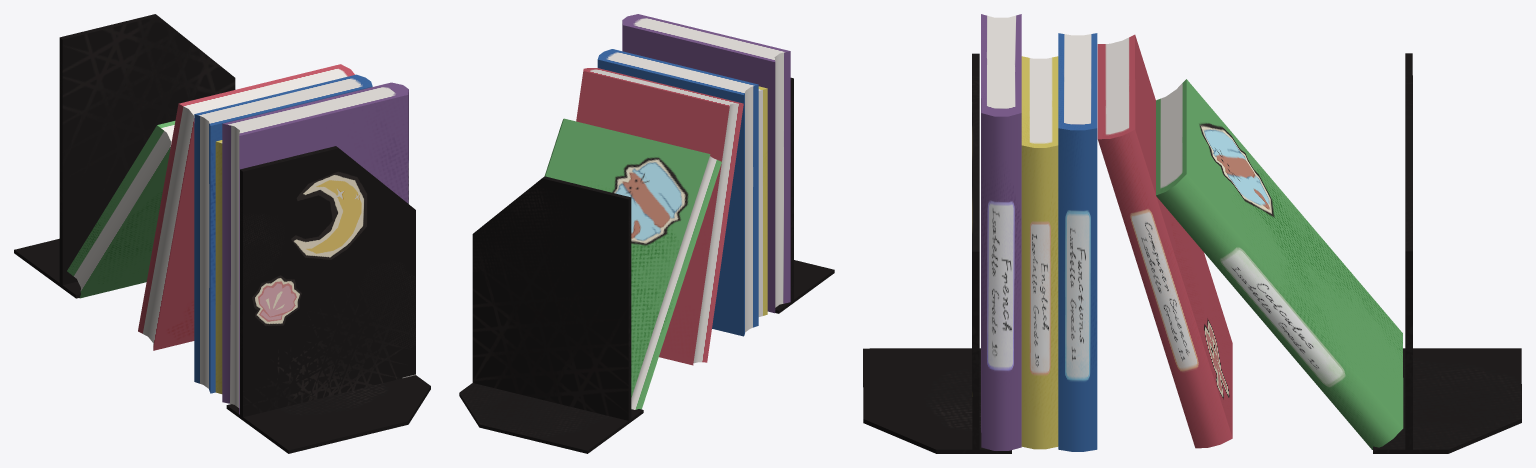
Rendered from SchoolBinders.fbx.
3 views of the same model, side by side, from view 1: azimuth 30°, elevation 25°; view 2: azimuth 150°, elevation 25°; view 3: azimuth 270°, elevation 25° (orthographic). The views are drawn at different scales.
Visible parts, largest first — view 1: bookshelf.001; view 2: bookshelf.001; view 3: bookshelf.001.
Part boxes in pixels (x1,y1,x2,y2): bookshelf.001: (14,14,430,453); bookshelf.001: (459,14,834,453); bookshelf.001: (863,14,1521,453).
Bounding box in the file's own units: 123 × 190 × 334.
Materials: 6 (6 with a texture image).
